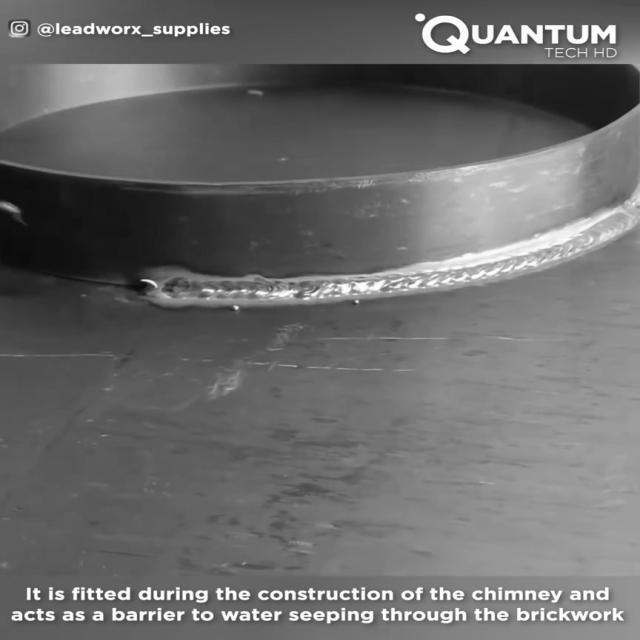Good Welding: (430, 218, 638, 278), (161, 276, 509, 300)
